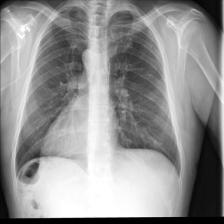normal: (10, 2, 184, 187)
